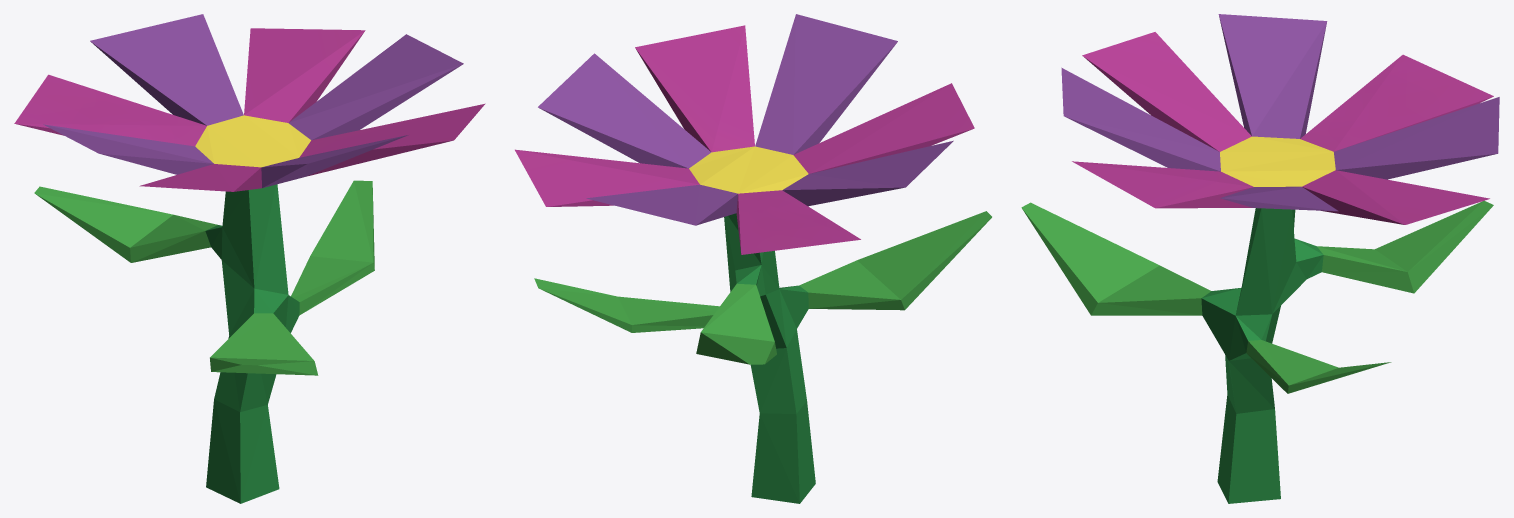
The model's file is flower_low-poly_3d_model.glb.
The picture shows the model from 3 angles, left to right: view 1: azimuth 30°, elevation 25°; view 2: azimuth 150°, elevation 25°; view 3: azimuth 270°, elevation 25°; orthographic projection. The views are drawn at different scales.
Visible parts, largest first — view 1: Plane; view 2: Plane; view 3: Plane.
Part boxes in pixels (box(x1,y1,x2,y2)): Plane: box(14, 14, 485, 503); Plane: box(515, 14, 991, 503); Plane: box(1021, 14, 1499, 503).
Size of the model in its own units: 38.99 by 40.42 by 42.38.
Materials: 1 (1 with a texture image).
